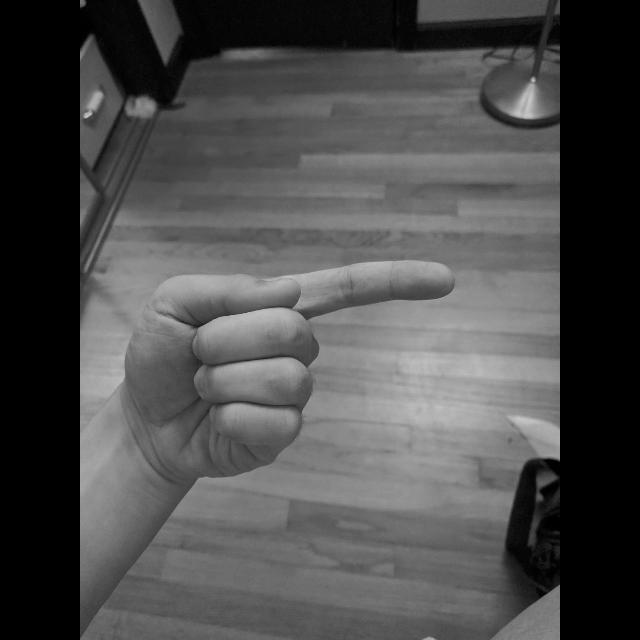G: (120, 253, 462, 484)
